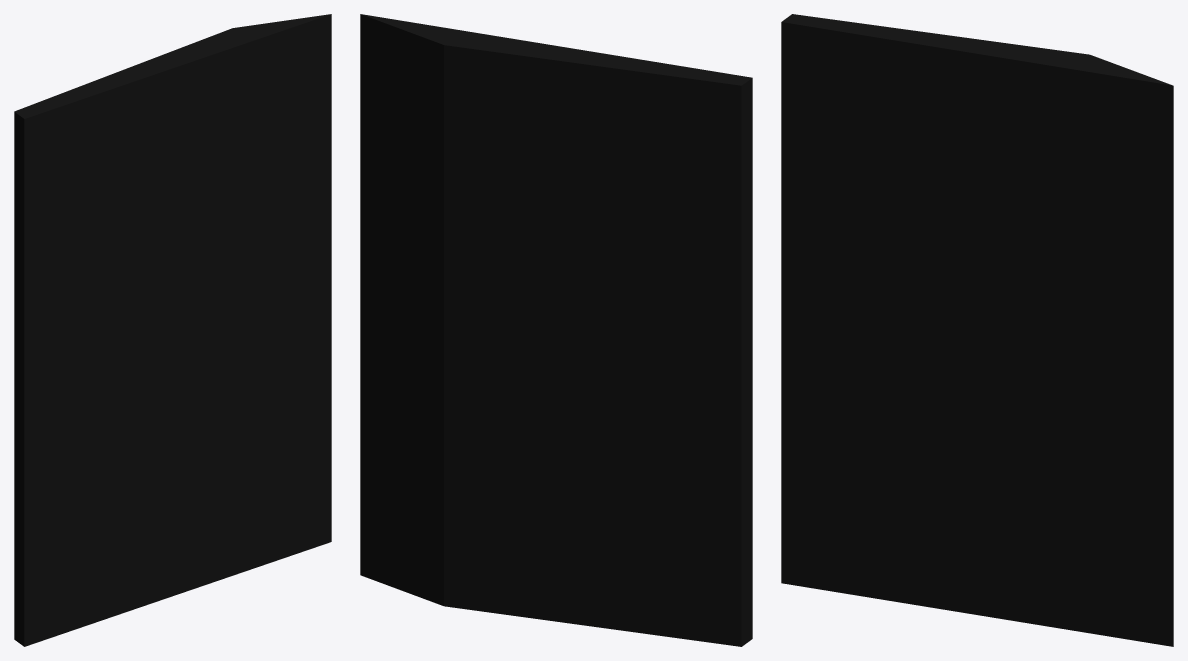
The model's file is boat rope.FBX.
3 renders of one model, left to right at view 1: azimuth 30°, elevation 25°; view 2: azimuth 150°, elevation 25°; view 3: azimuth 330°, elevation 25°, orthographic. The views are drawn at different scales.
Visible parts, largest first — view 1: Shape1; view 2: Shape1; view 3: Shape1.
Boxes of the visible parts, x1,y1,x2,y2 form: Shape1: [14, 14, 331, 646]; Shape1: [360, 14, 752, 646]; Shape1: [781, 14, 1173, 646].
Bounding box in the file's own units: 0.6703 × 1 × 0.1411.
